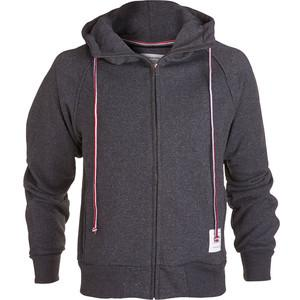C_jacket: (23, 1, 278, 300)
